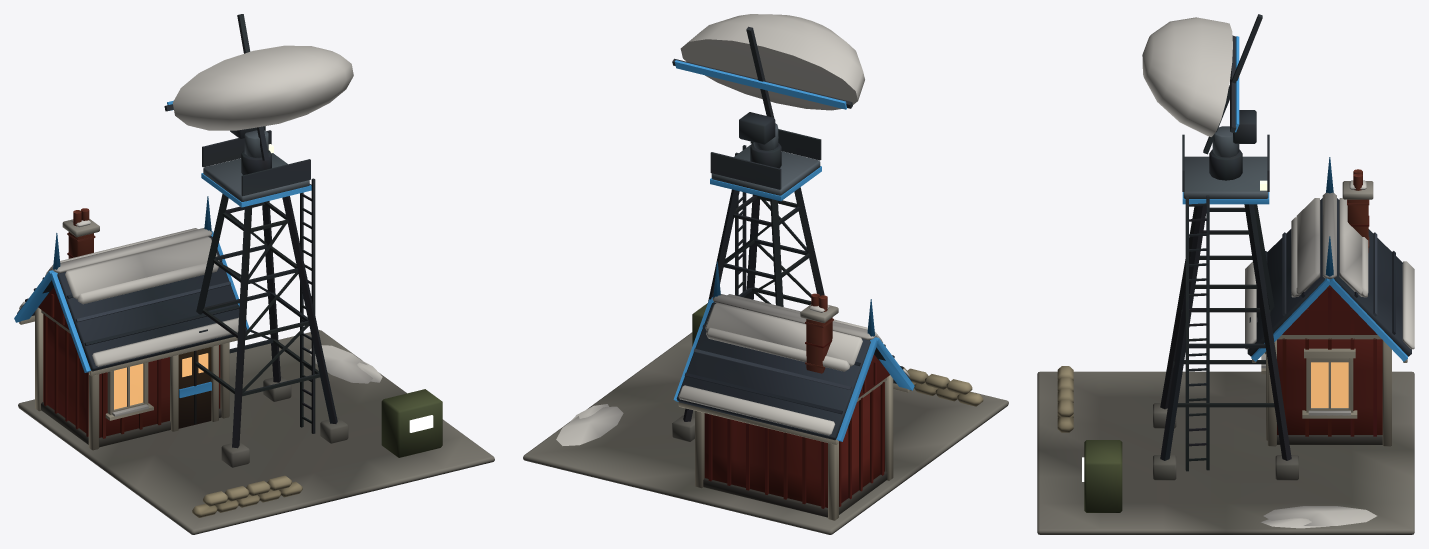
The model's file is radar.glb.
3 views of the same model, side by side, from view 1: azimuth 30°, elevation 25°; view 2: azimuth 150°, elevation 25°; view 3: azimuth 270°, elevation 25° (orthographic). The views are drawn at different scales.
Visible parts, largest first — view 1: radar_root_matte, radar_root_metal, radar_radar_dish_matte, radar_root_trim, radar_root_glass, radar_radar_dish_metal; view 2: radar_root_matte, radar_radar_dish_matte, radar_root_metal, radar_root_trim, radar_radar_dish_metal, radar_radar_dish_trim; view 3: radar_root_matte, radar_root_metal, radar_radar_dish_matte, radar_radar_dish_metal, radar_root_trim, radar_root_glass.
Part boxes in pixels (bbox=[...]): radar_root_matte: bbox=[17, 208, 494, 534]; radar_root_metal: bbox=[195, 130, 337, 448]; radar_radar_dish_matte: bbox=[172, 45, 353, 130]; radar_root_trim: bbox=[14, 173, 311, 397]; radar_root_glass: bbox=[114, 353, 208, 409]; radar_radar_dish_metal: bbox=[164, 14, 269, 160]; radar_root_matte: bbox=[523, 293, 1008, 534]; radar_radar_dish_matte: bbox=[680, 14, 864, 110]; radar_root_metal: bbox=[683, 129, 824, 421]; radar_root_trim: bbox=[673, 166, 914, 441]; radar_radar_dish_metal: bbox=[672, 26, 852, 150]; radar_radar_dish_trim: bbox=[674, 60, 847, 109]; radar_root_matte: bbox=[1037, 169, 1414, 534]; radar_root_metal: bbox=[1160, 134, 1291, 471]; radar_radar_dish_matte: bbox=[1142, 17, 1232, 136]; radar_radar_dish_metal: bbox=[1203, 14, 1262, 157]; radar_root_trim: bbox=[1182, 157, 1407, 361]; radar_root_glass: bbox=[1311, 362, 1348, 407].
Bounding box in the file's own units: 8.16 × 10.31 × 8.
